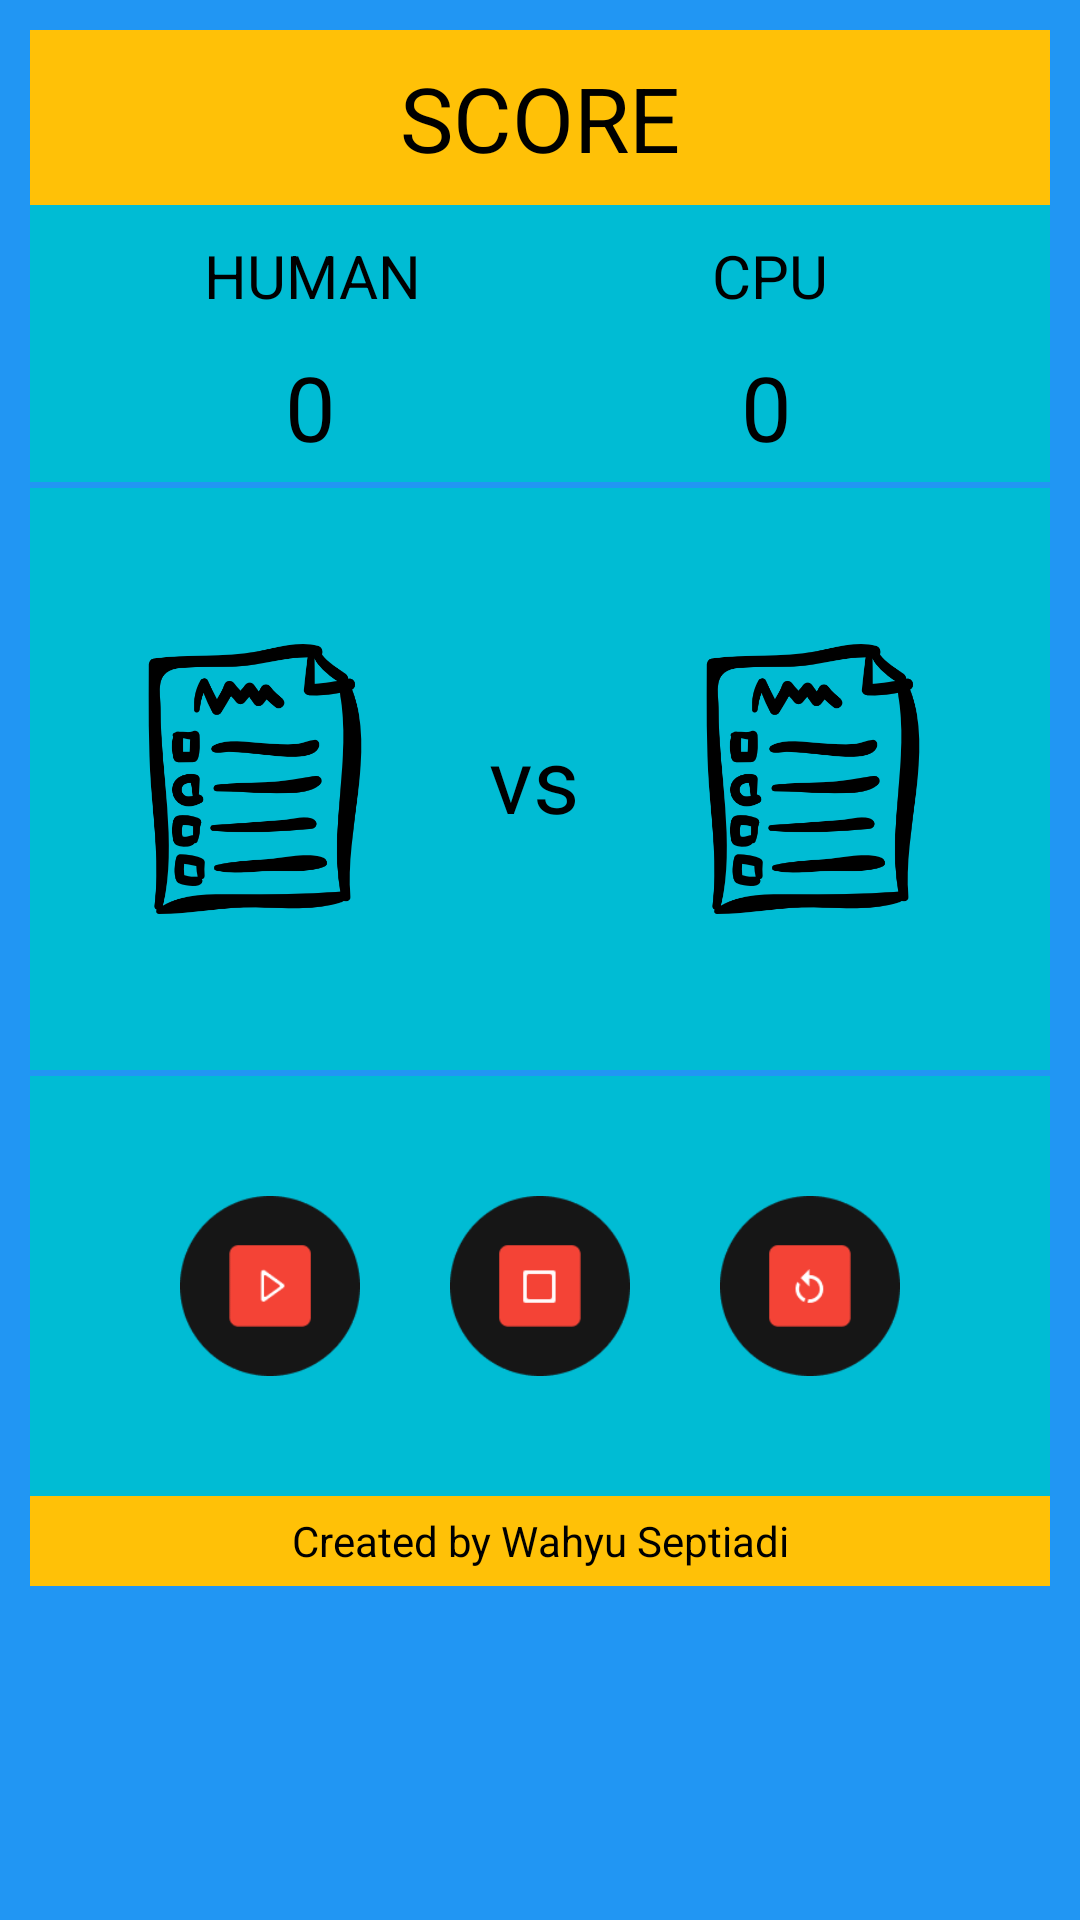

Point at icon controls on the screen. Image size 1080×1920, points as [x,y].
paper: [255,779], [813,779]
play: [270,1286]
restart: [810,1286]
stop: [540,1286]
